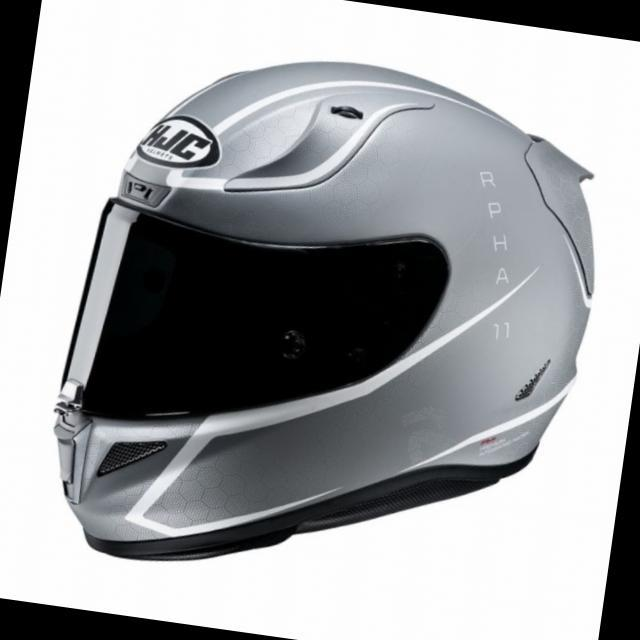Helm: (28, 19, 625, 625)
